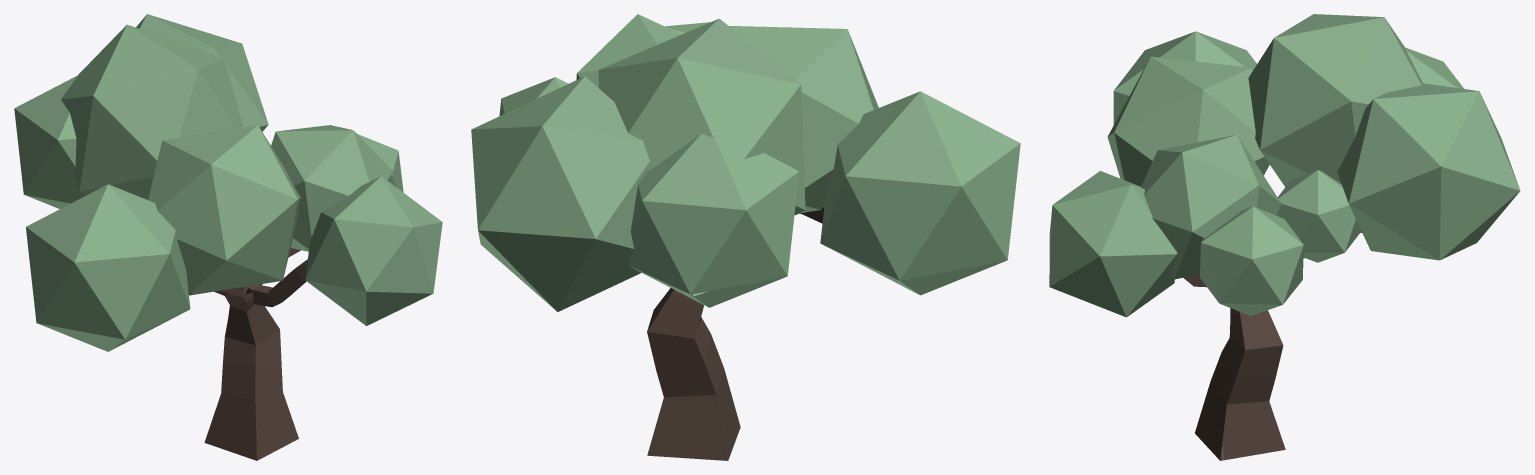
File: NorTreeTestZUP_YF.fbx
The picture shows the model from 3 angles, left to right: view 1: azimuth 30°, elevation 25°; view 2: azimuth 150°, elevation 25°; view 3: azimuth 270°, elevation 25°; orthographic projection. The views are drawn at different scales.
Visible parts, largest first — view 1: Cube.005; view 2: Cube.005; view 3: Cube.005.
Part boxes in pixels (<box>): Cube.005: <box>14,14,442,460</box>; Cube.005: <box>471,14,1020,460</box>; Cube.005: <box>1049,14,1520,460</box>.
Size of the model in its own units: 691 by 693 by 644.
